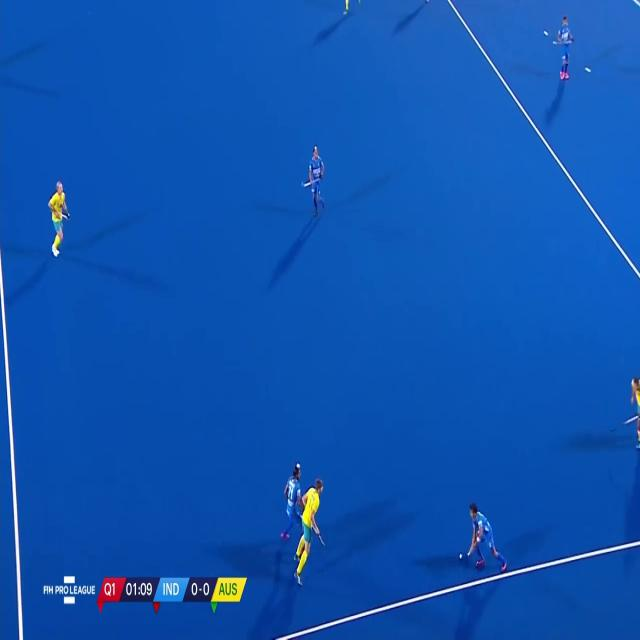ball: (458, 549, 464, 561)
